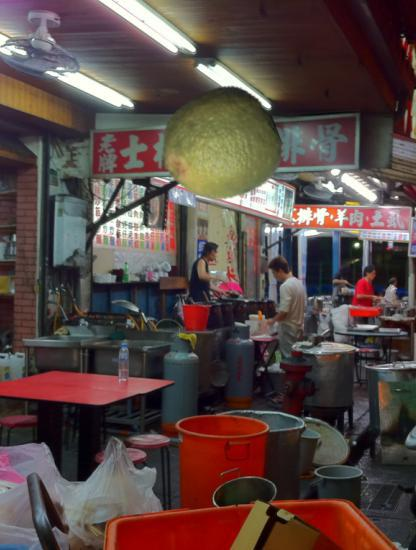Limes: (160, 86, 279, 205)
